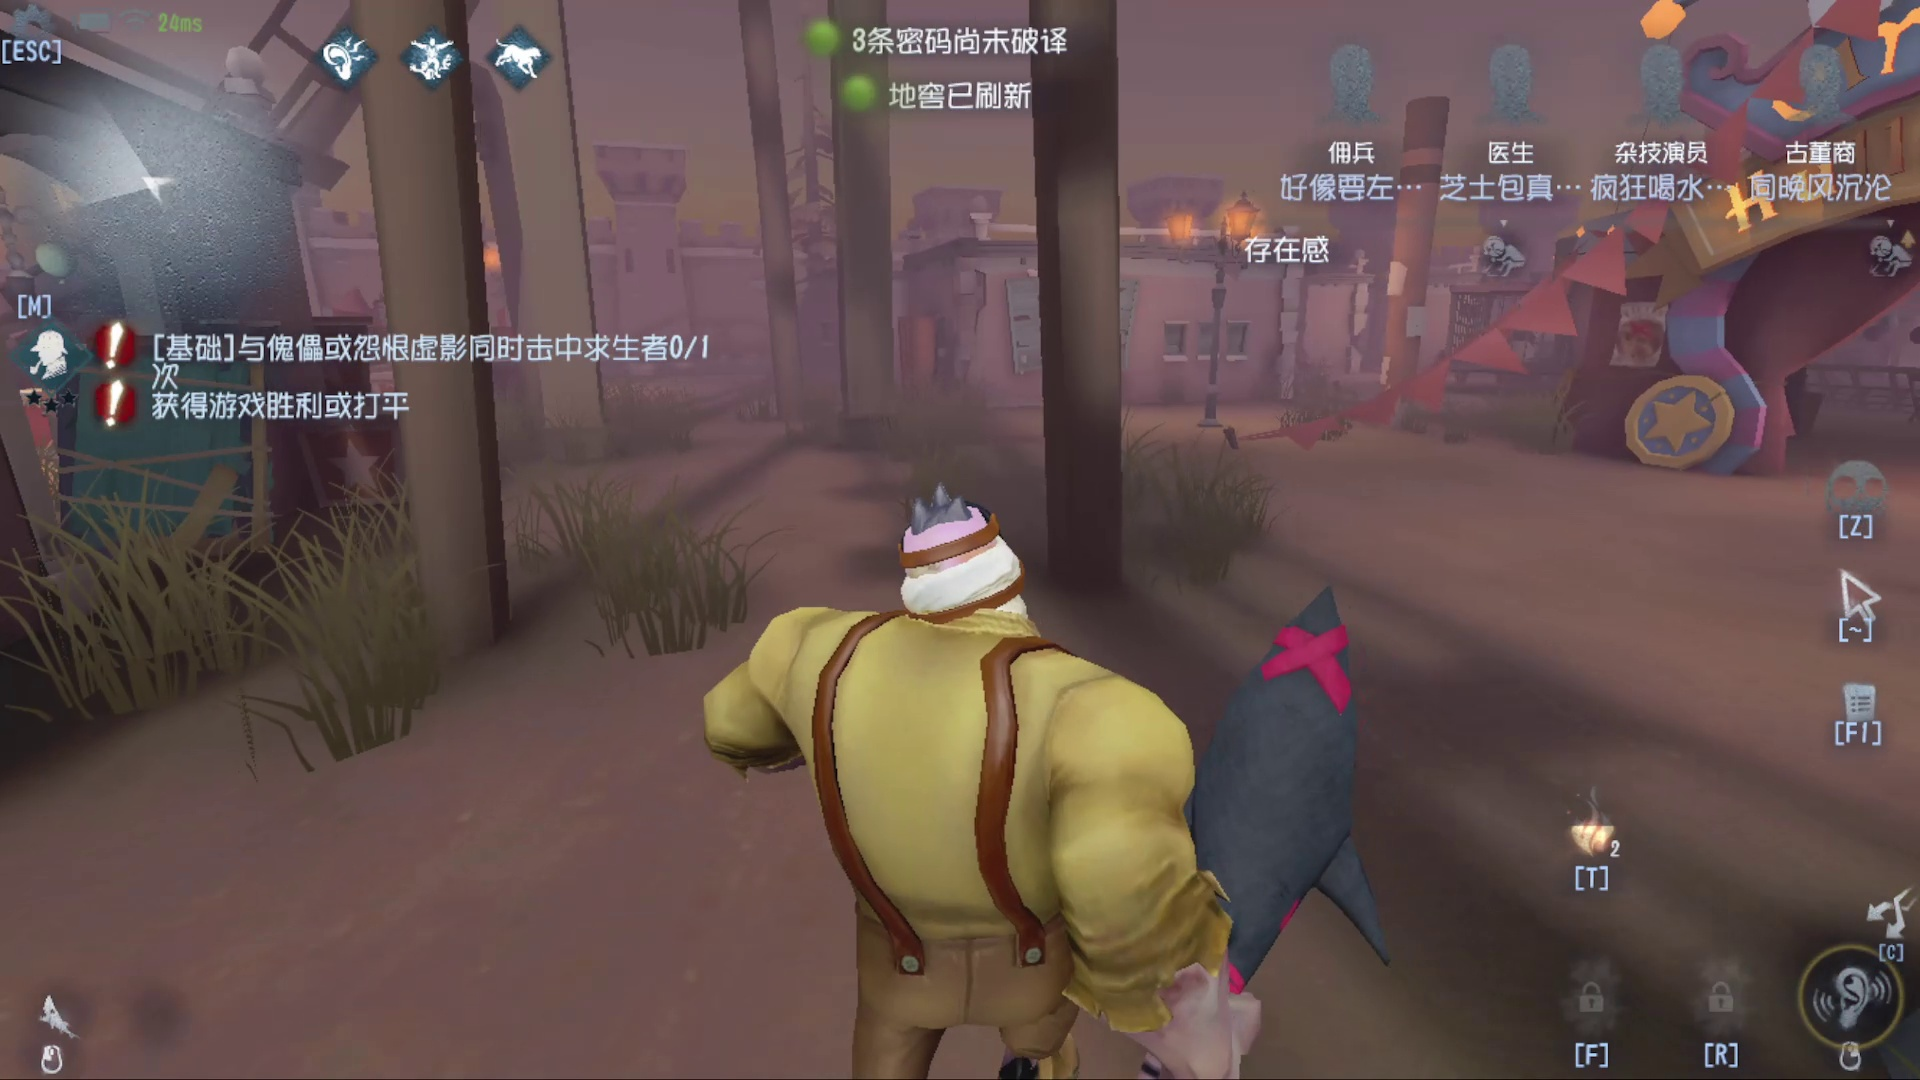木板: (53, 318, 284, 585)
